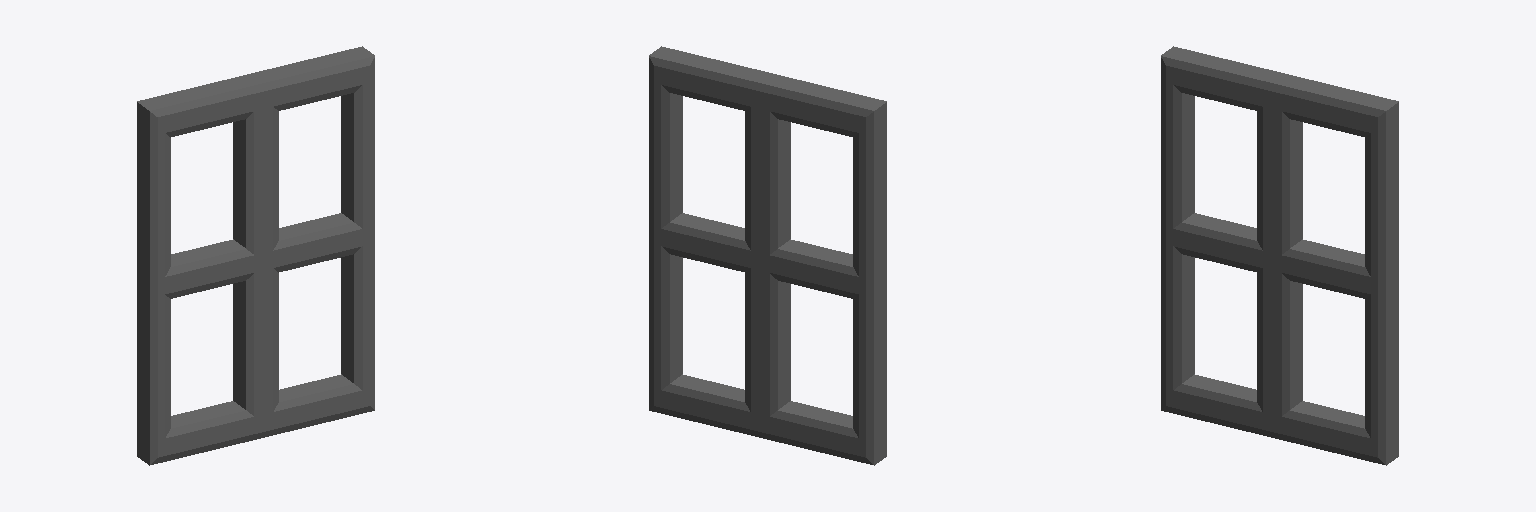
The model's file is Window.obj.
3 renders of one model, left to right at view 1: azimuth 30°, elevation 25°; view 2: azimuth 150°, elevation 25°; view 3: azimuth 330°, elevation 25°, orthographic.
Visible parts, largest first — view 1: Window; view 2: Window; view 3: Window.
Part boxes in pixels (bbox=[...]): Window: bbox=[137, 46, 374, 465]; Window: bbox=[649, 46, 886, 465]; Window: bbox=[1161, 46, 1398, 465].
Bounding box in the file's own units: 39.37 × 59.06 × 4.72.